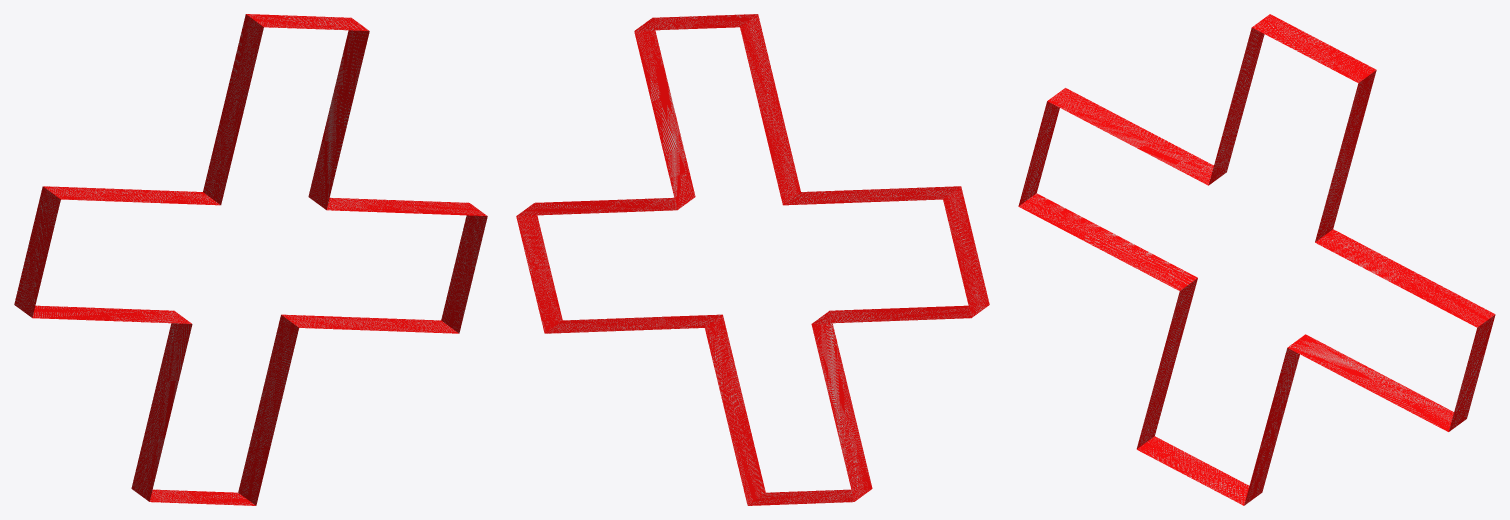
The model's file is original-78.obj.
The picture shows the model from 3 angles, left to right: view 1: azimuth 30°, elevation 25°; view 2: azimuth 150°, elevation 25°; view 3: azimuth 330°, elevation 25°; orthographic projection.
Visible parts, largest first — view 1: #ID307; view 2: #ID307; view 3: #ID307.
Part boxes in pixels (bbox=[...]): #ID307: bbox=[14, 14, 487, 505]; #ID307: bbox=[516, 14, 989, 505]; #ID307: bbox=[1018, 14, 1495, 505].
Bounding box in the file's own units: 0.0135 × 0.0135 × 0.000933.
